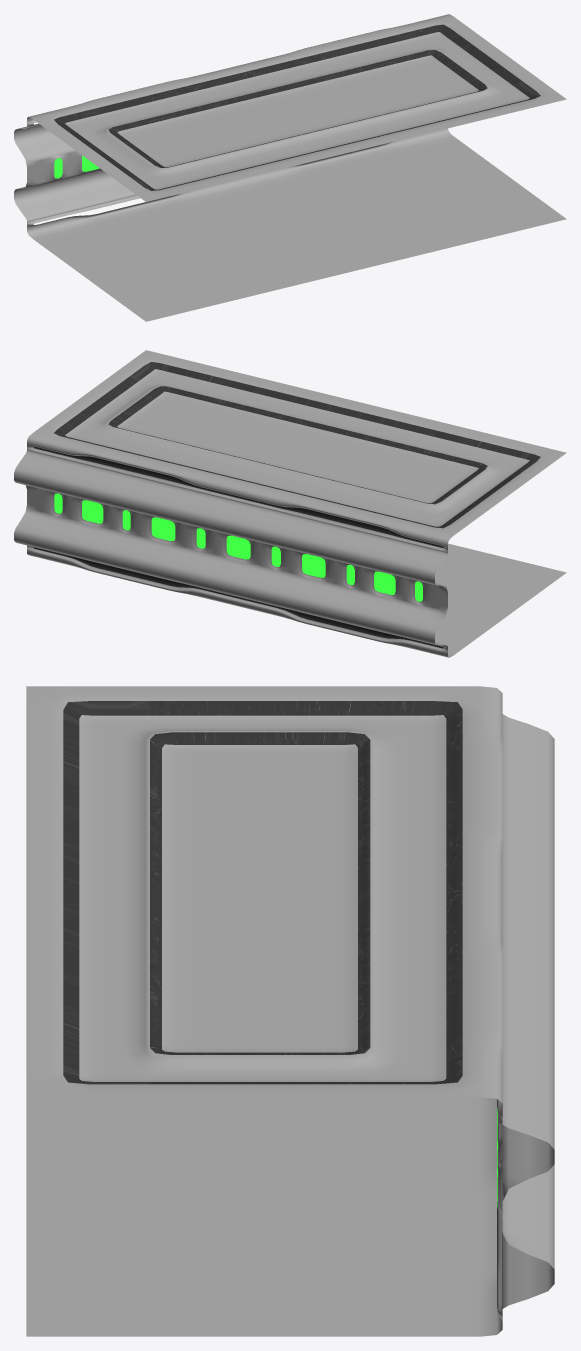
File: FloorTile4.fbx
The picture shows the model from 3 angles, top to bottom: view 1: azimuth 30°, elevation 25°; view 2: azimuth 150°, elevation 25°; view 3: azimuth 270°, elevation 25°; orthographic projection. The views are drawn at different scales.
Visible parts, largest first — view 1: Box005; view 2: Box005; view 3: Box005.
Part boxes in pixels (box(x1,y1,x2,y2)): Box005: box(14, 14, 566, 321); Box005: box(14, 350, 566, 657); Box005: box(26, 686, 554, 1336).
Bounding box in the file's own units: 1519 × 413 × 826.
